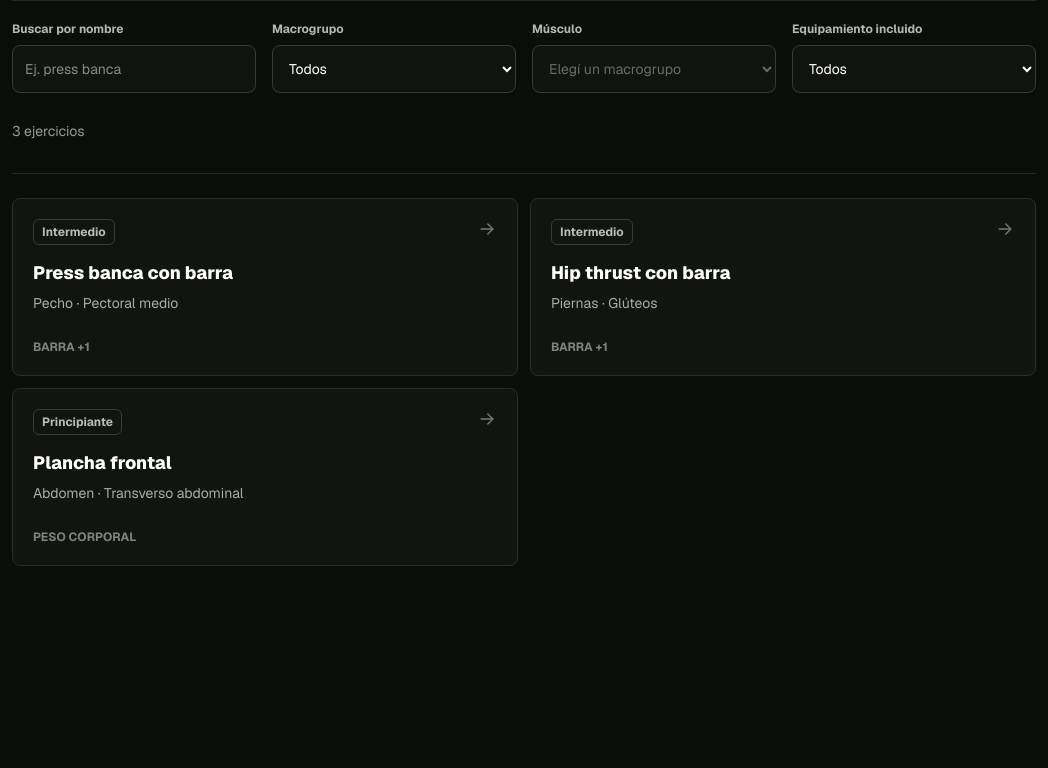
Scenario: ExerciseLibrary › filtra por búsqueda, macrogrupo, músculo y equipamiento
Select "Piernas" in the dropdown labelled "Macrogrupo" at (394, 69), box left=272, top=45, right=516, bottom=93
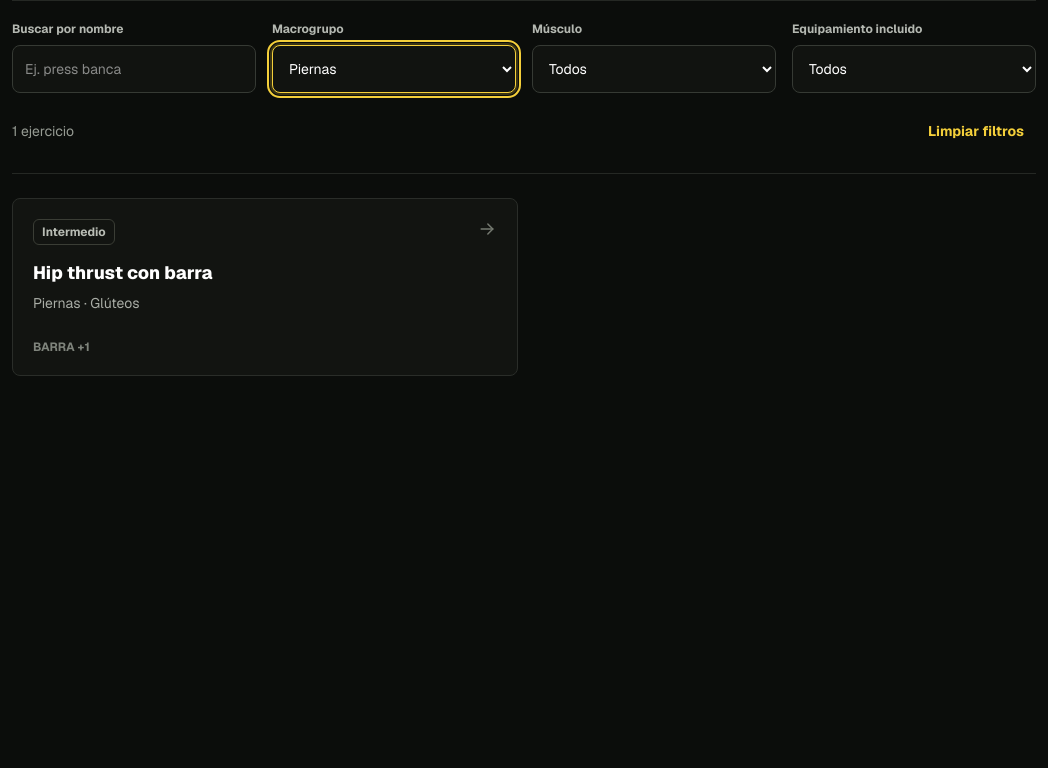
Select "Glúteos" in the dropdown labelled "Músculo" at (654, 69), box left=532, top=45, right=776, bottom=93
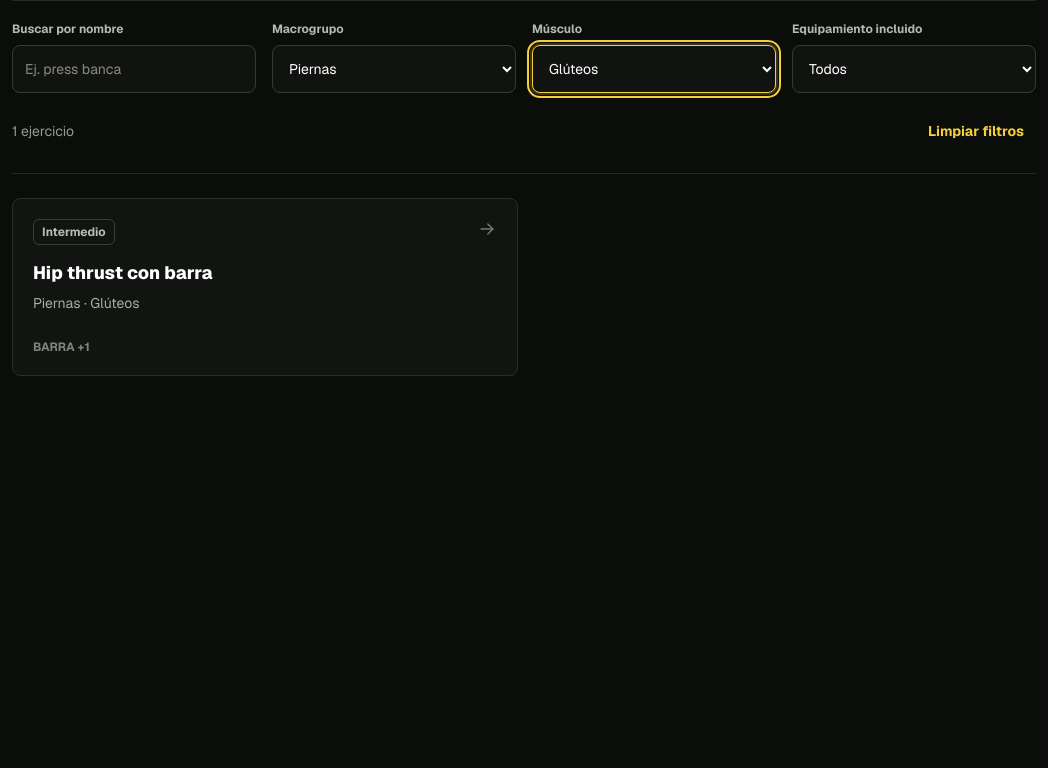
Select "Banco" in the dropdown labelled "Equipamiento incluido" at (914, 69), box left=792, top=45, right=1036, bottom=93
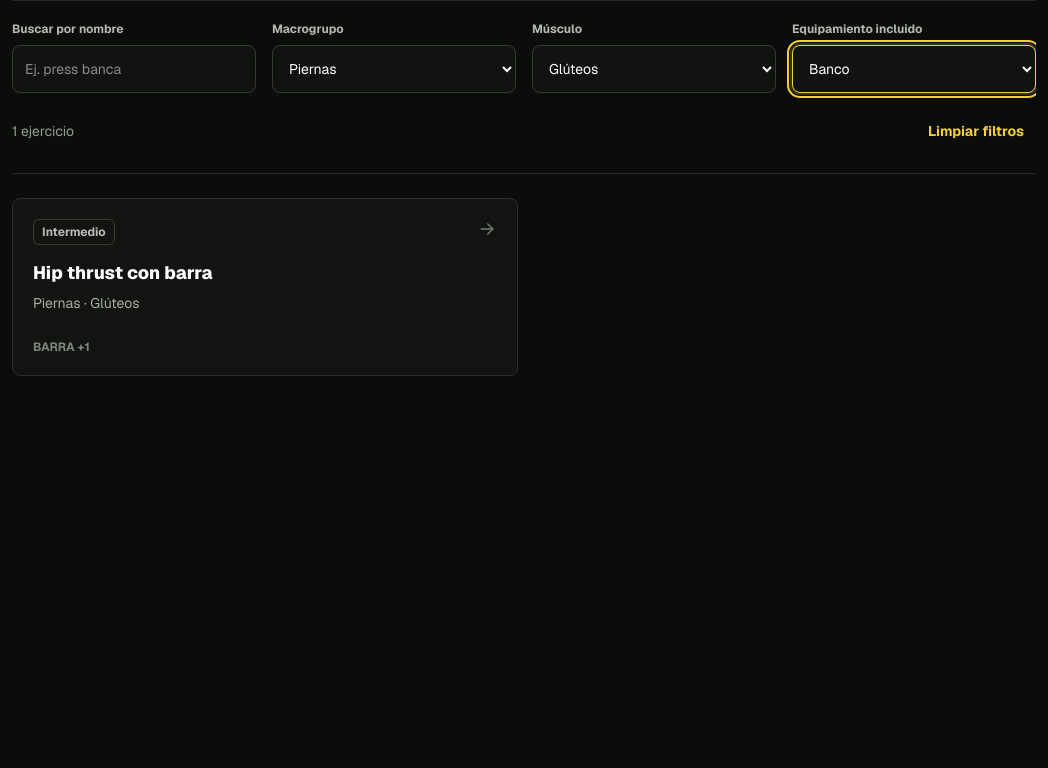
Expected: the heading "Hip thrust con barra" is shown, left=33, top=261, right=212, bottom=284
Expected: the text "1 ejercicio" is shown, left=12, top=121, right=74, bottom=141
Type "sin resultado" into the search field labelled "Buscar por nombre" at (134, 69), box left=12, top=45, right=256, bottom=93
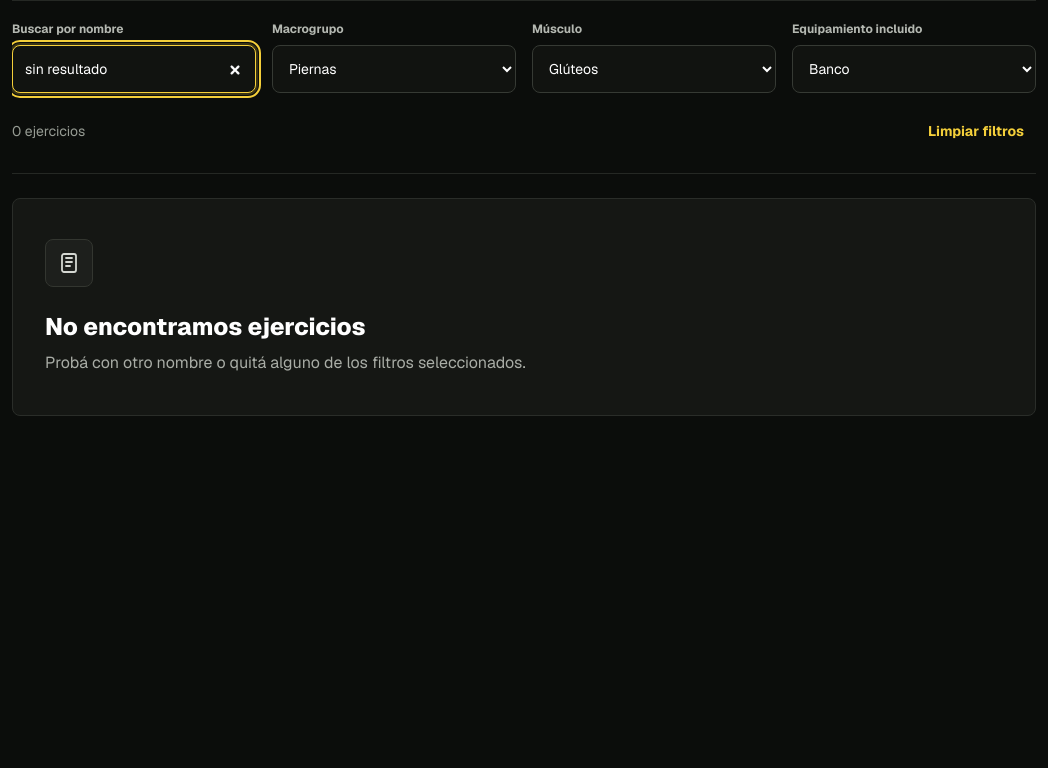
Expected: the heading "No encontramos ejercicios" is shown, left=45, top=311, right=366, bottom=342
